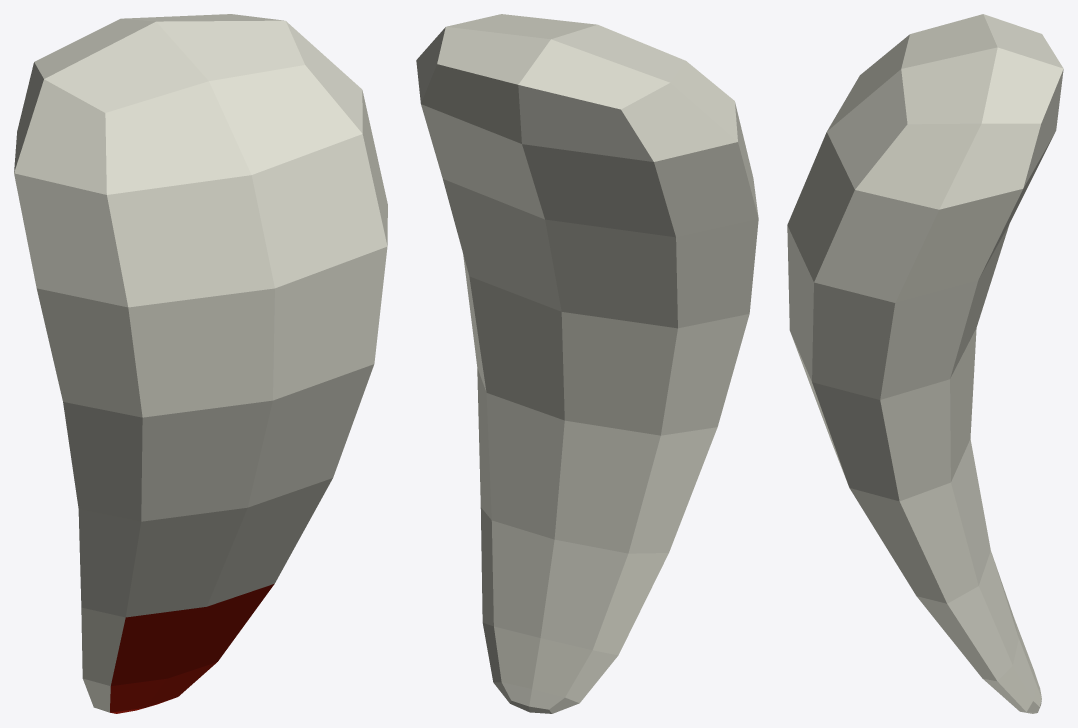
The model's file is Tooth Blood.fbx.
3 views of the same model, side by side, from view 1: azimuth 30°, elevation 25°; view 2: azimuth 150°, elevation 25°; view 3: azimuth 270°, elevation 25° (orthographic). The views are drawn at different scales.
Visible parts, largest first — view 1: Tooth; view 2: Tooth; view 3: Tooth.
Boxes of the visible parts, bbox=[...] form: Tooth: bbox=[14, 14, 387, 713]; Tooth: bbox=[416, 14, 758, 713]; Tooth: bbox=[787, 14, 1063, 713].
Bounding box in the file's own units: 112 × 215 × 81.85.
